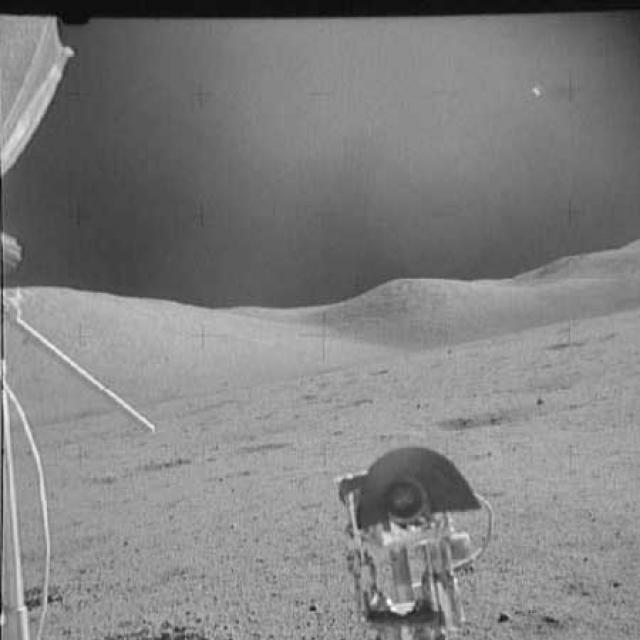artifact: (326, 445, 506, 640), (0, 232, 164, 443), (0, 12, 81, 196), (3, 442, 70, 639)
crater: (428, 405, 532, 432)
